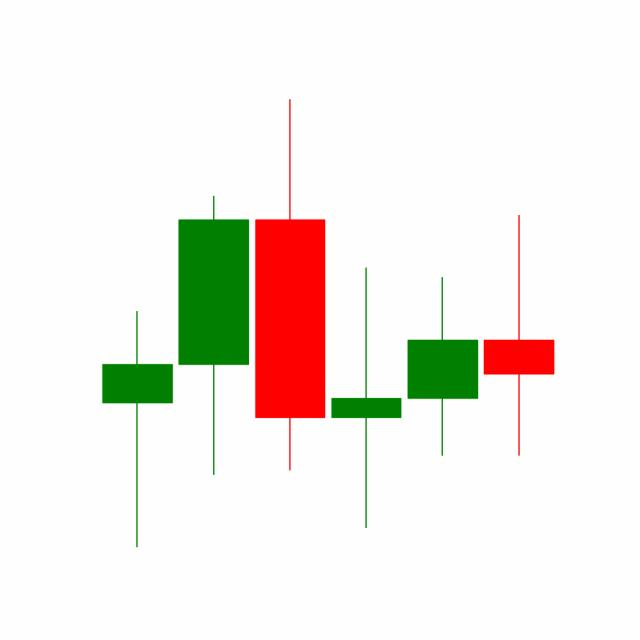Spinning Top: (403, 275, 481, 458)
